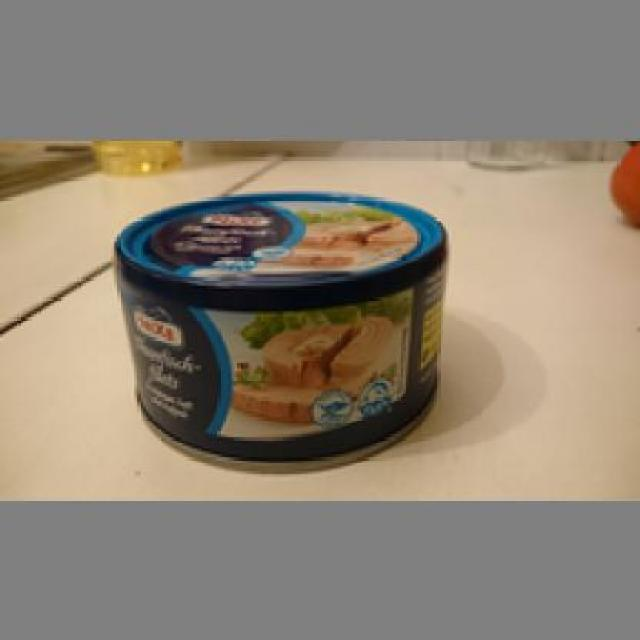Fish: (109, 186, 448, 474)
